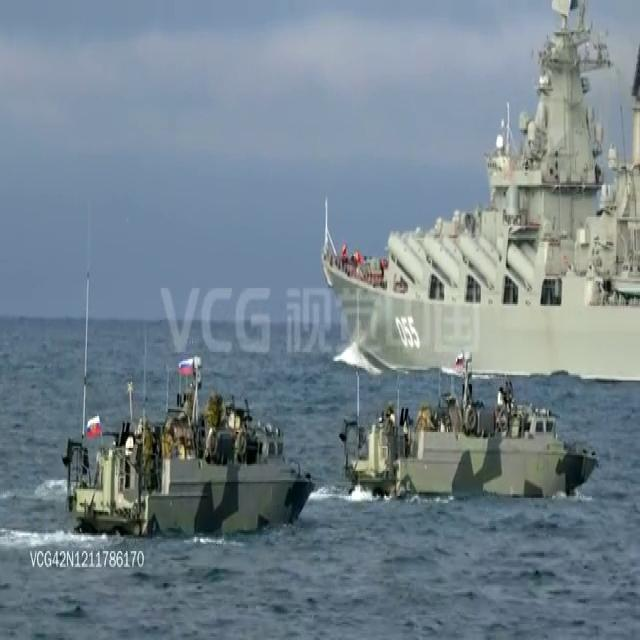cargoship: (323, 0, 640, 377)
houseboat: (62, 347, 310, 542), (338, 348, 600, 496)
